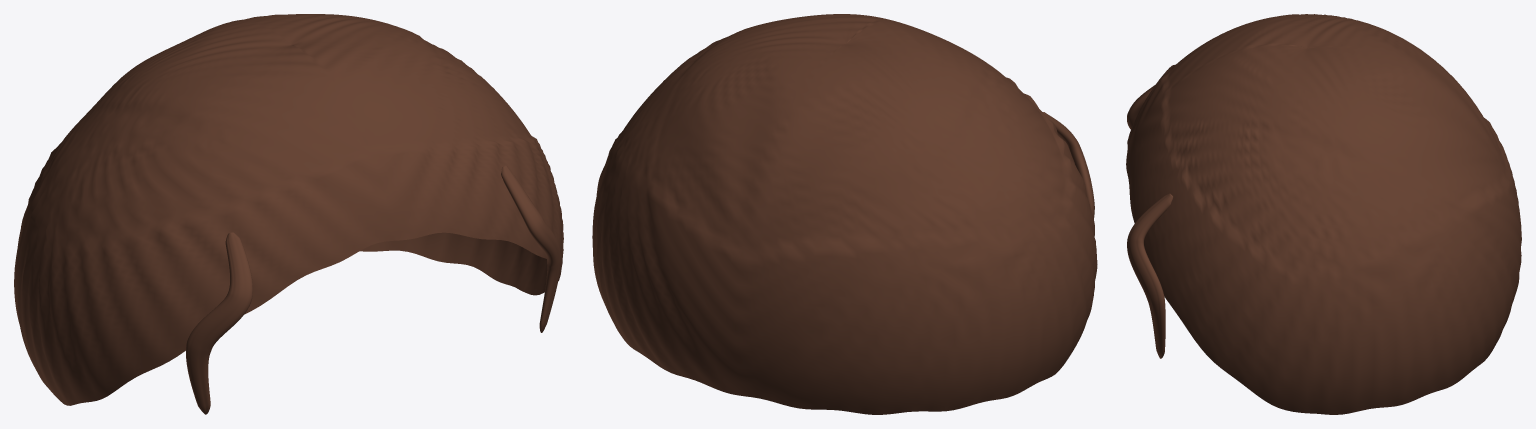
File: Feminine-space-buns-headband251-hair.glb
3 views of the same model, side by side, from view 1: azimuth 30°, elevation 25°; view 2: azimuth 150°, elevation 25°; view 3: azimuth 270°, elevation 25° (orthographic). The views are drawn at different scales.
Visible parts, largest first — view 1: 226 hair / Hair / chestnut226.001; view 2: 226 hair / Hair / chestnut226.001; view 3: 226 hair / Hair / chestnut226.001.
Boxes of the visible parts, left/top/right/bottom form: 226 hair / Hair / chestnut226.001: left=14, top=14, right=563, bottom=414; 226 hair / Hair / chestnut226.001: left=592, top=14, right=1097, bottom=414; 226 hair / Hair / chestnut226.001: left=1126, top=14, right=1521, bottom=414.
Size of the model in its own units: 0.9988 by 0.599 by 0.7845.
